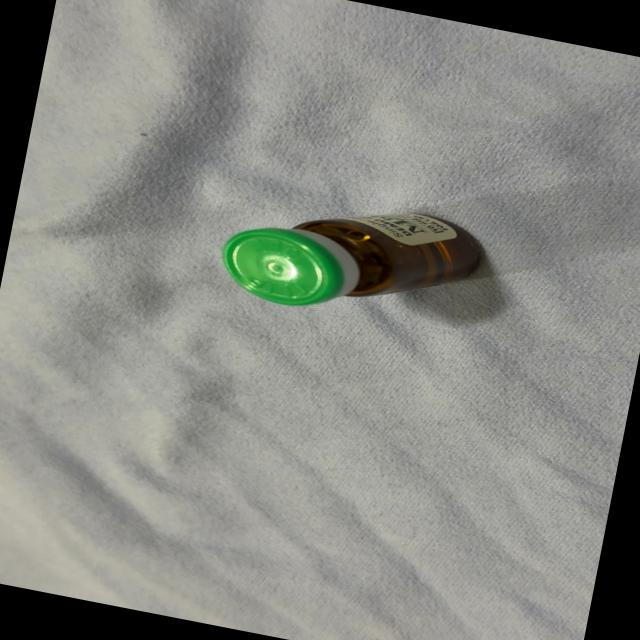midazolm: (220, 180, 482, 337)
